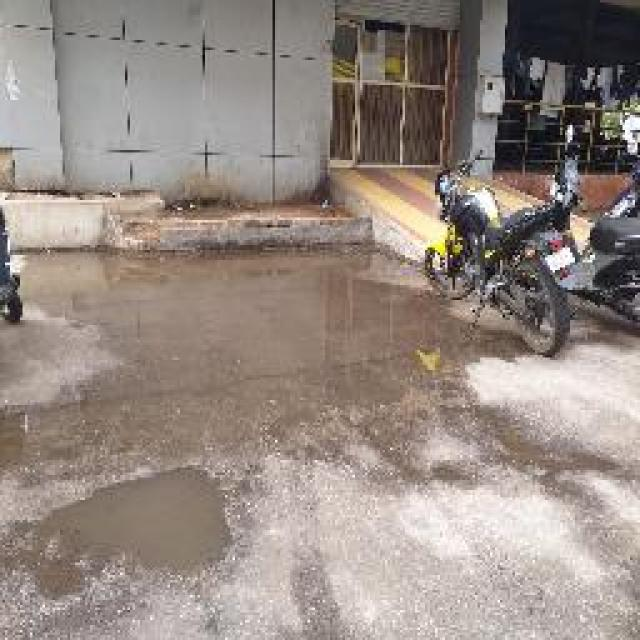waterlogging: (43, 244, 462, 374), (0, 458, 288, 618)
